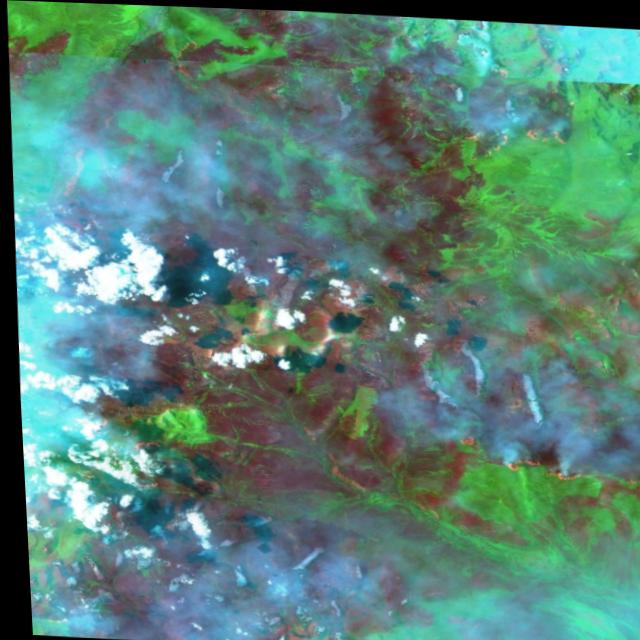fire: (452, 65, 580, 158), (445, 429, 640, 490), (118, 431, 162, 497)
